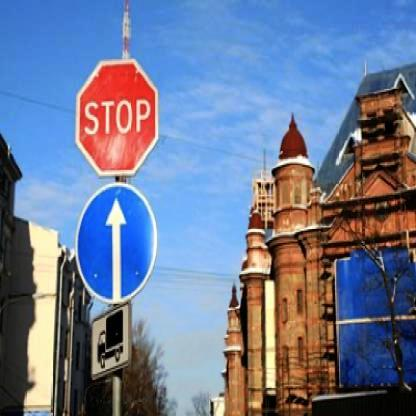Stop Sign: (75, 58, 161, 178)
